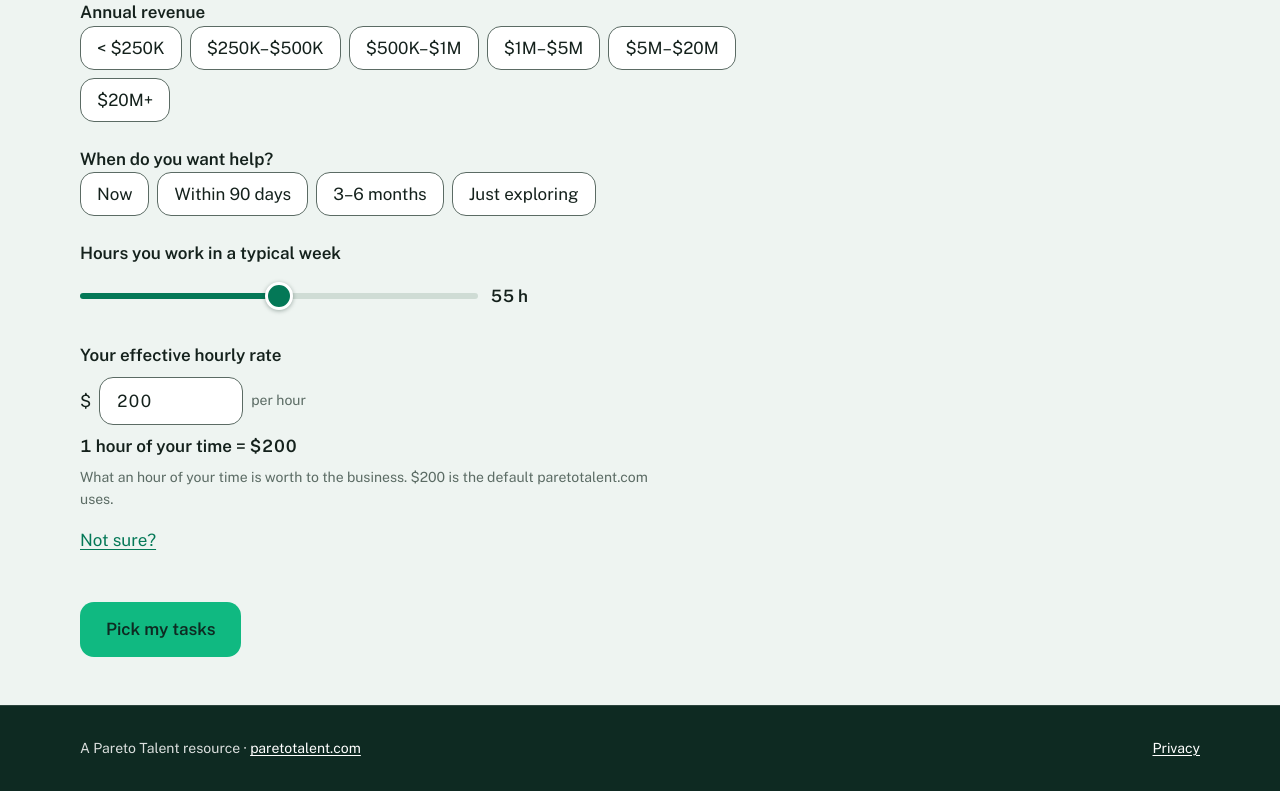
Test: calculator flow › step 1 blocks until role, revenue and timeline are chosen
(page scrolled)
Click the button "Pick my tasks": (161, 630) [80,602,242,657]
(page scrolled)
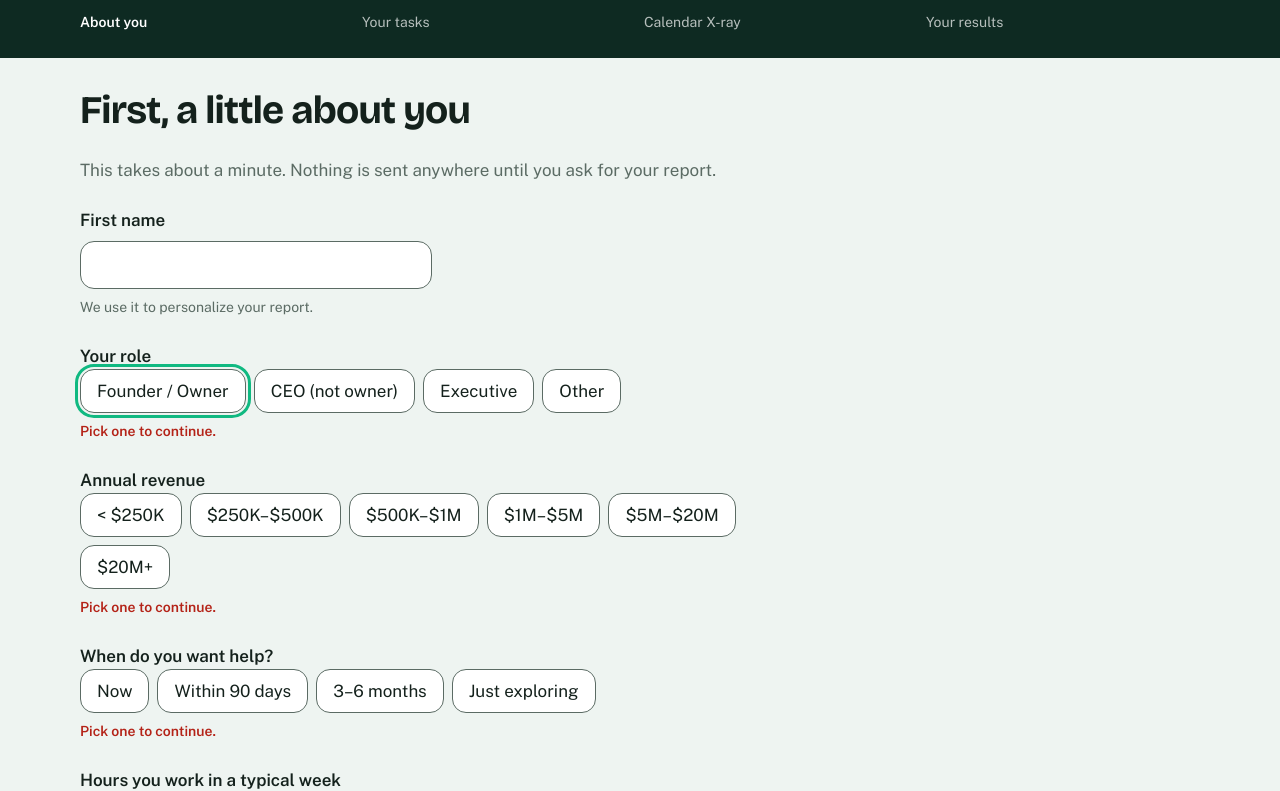
Check: the heading "First, a little about you" is shown, box [80,87,470,134]
Check: the text "Pick one to continue." is shown 3 times, box [80,423,216,439]; [80,599,216,615]; [80,723,216,739]
